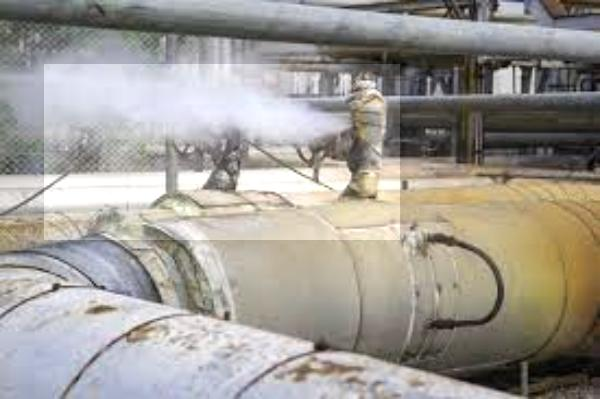gas: (44, 64, 400, 240)
